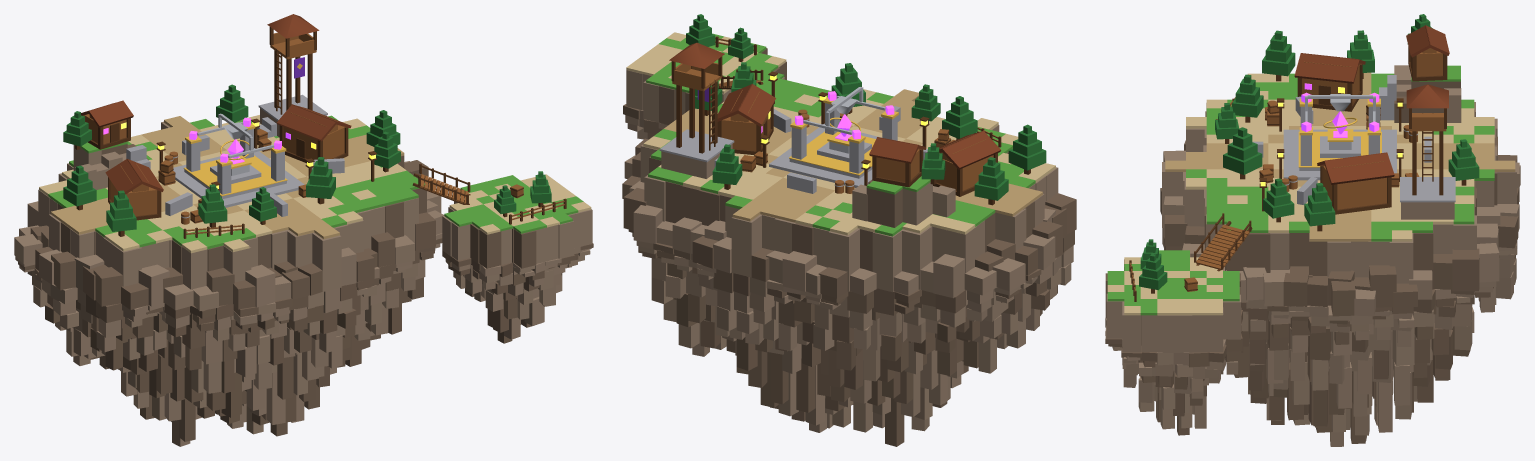
The model's file is bedwars-central-island.glb.
3 views of the same model, side by side, from view 1: azimuth 30°, elevation 25°; view 2: azimuth 150°, elevation 25°; view 3: azimuth 270°, elevation 25° (orthographic). The views are drawn at different scales.
Parts seen in each view (by area): view 1: island_underside_rock, island_underside_rock_dark, cliffs_rock, cliffs_ledges_rock_dark, trees_leaves, cliffs_ledges_rock, topsoil_sand, topsoil_dirt_path, topsoil_grass, side_island_underside_rock, side_island_rock, side_island_grass (+23 smaller); view 2: island_underside_rock, island_underside_rock_dark, cliffs_rock, cliffs_ledges_rock, trees_leaves, topsoil_sand, topsoil_dirt_path, cliffs_ledges_rock_dark, topsoil_grass, cliffs_rock_dark, plateau_rock, dropper_plaza_stone_tile (+25 smaller); view 3: island_underside_rock, island_underside_rock_dark, trees_leaves, cliffs_rock, cliffs_ledges_rock_dark, topsoil_sand, topsoil_grass, topsoil_dirt_path, cliffs_ledges_rock, side_island_rock, side_island_underside_rock, cliffs_rock_dark (+29 smaller).
Boxes of the visible parts, x1=… form: island_underside_rock: x1=15, y1=233, x2=442, y2=446; island_underside_rock_dark: x1=18, y1=238, x2=442, y2=441; cliffs_rock: x1=38, y1=121, x2=418, y2=291; cliffs_ledges_rock_dark: x1=30, y1=160, x2=435, y2=309; trees_leaves: x1=63, y1=84, x2=551, y2=231; cliffs_ledges_rock: x1=14, y1=161, x2=444, y2=310; topsoil_sand: x1=39, y1=115, x2=406, y2=253; topsoil_dirt_path: x1=50, y1=116, x2=404, y2=239; topsoil_grass: x1=48, y1=115, x2=425, y2=249; side_island_underside_rock: x1=451, y1=247, x2=591, y2=339; side_island_rock: x1=442, y1=201, x2=592, y2=264; side_island_grass: x1=444, y1=175, x2=583, y2=233; island_underside_rock: x1=632, y1=233, x2=1073, y2=432; island_underside_rock_dark: x1=628, y1=229, x2=1074, y2=446; cliffs_rock: x1=640, y1=101, x2=1058, y2=292; cliffs_ledges_rock: x1=624, y1=155, x2=1055, y2=298; trees_leaves: x1=686, y1=14, x2=1046, y2=200; topsoil_sand: x1=643, y1=89, x2=1055, y2=235; topsoil_dirt_path: x1=664, y1=89, x2=1042, y2=222; cliffs_ledges_rock_dark: x1=622, y1=138, x2=1076, y2=298; topsoil_grass: x1=648, y1=78, x2=1035, y2=236; cliffs_rock_dark: x1=649, y1=152, x2=1034, y2=271; plateau_rock: x1=852, y1=182, x2=955, y2=225; dropper_plaza_stone_tile: x1=769, y1=123, x2=881, y2=187; island_underside_rock: x1=1162, y1=228, x2=1517, y2=446; island_underside_rock_dark: x1=1164, y1=236, x2=1517, y2=443; trees_leaves: x1=1139, y1=14, x2=1479, y2=290; cliffs_rock: x1=1162, y1=102, x2=1516, y2=283; cliffs_ledges_rock_dark: x1=1160, y1=140, x2=1518, y2=316; topsoil_sand: x1=1186, y1=73, x2=1494, y2=241; topsoil_grass: x1=1186, y1=73, x2=1494, y2=241; topsoil_dirt_path: x1=1165, y1=72, x2=1515, y2=241; cliffs_ledges_rock: x1=1163, y1=150, x2=1520, y2=316; side_island_rock: x1=1106, y1=252, x2=1240, y2=352; side_island_underside_rock: x1=1105, y1=318, x2=1238, y2=429; cliffs_rock_dark: x1=1204, y1=109, x2=1497, y2=289.
Bounding box in the file's own units: 111 × 86.23 × 80.72.
